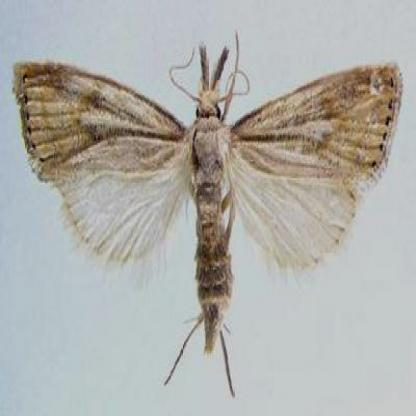stem-borer: (13, 29, 404, 396)
